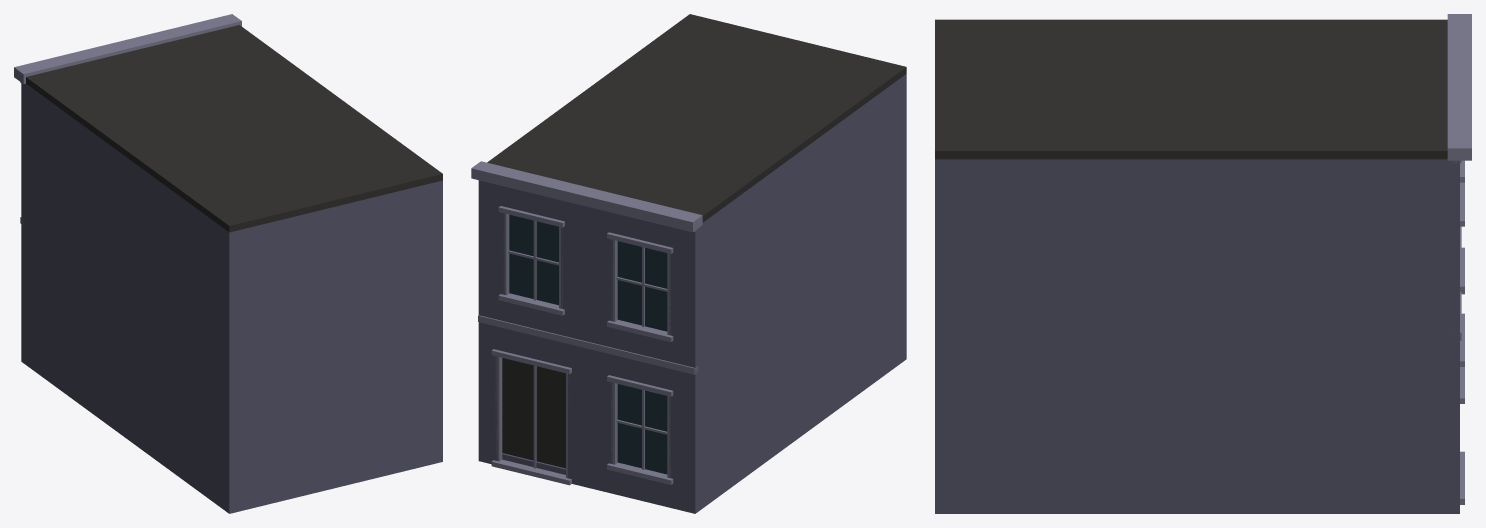
File: office_2b_2f.obj
3 renders of one model, left to right at view 1: azimuth 30°, elevation 25°; view 2: azimuth 150°, elevation 25°; view 3: azimuth 270°, elevation 25°, orthographic. The views are drawn at different scales.
Parts seen in each view (by area): view 1: rear_1, party_wall_2, roof_slab_49, foundation_0, cornice_48, wall_pier_4, wall_pier_25; view 2: party_wall_2, roof_slab_49, door_18, cornice_48, wall_pier_4, wall_pier_25, recessed_glass_8, recessed_glass_40, recessed_glass_29, wall_pier_37, wall_pier_5, wall_pier_36 (+21 smaller); view 3: side_3, roof_slab_49, foundation_0, rear_1, cornice_48, wall_pier_16, wall_pier_37.
Part boxes in pixels (left/top/right/bottom): rear_1: left=224, top=180, right=442, bottom=512; party_wall_2: left=24, top=83, right=238, bottom=513; roof_slab_49: left=26, top=25, right=442, bottom=232; foundation_0: left=24, top=354, right=442, bottom=513; cornice_48: left=14, top=14, right=241, bottom=83; wall_pier_4: left=21, top=221, right=26, bottom=365; wall_pier_25: left=21, top=83, right=26, bottom=222; party_wall_2: left=698, top=74, right=906, bottom=508; roof_slab_49: left=487, top=14, right=906, bottom=222; door_18: left=502, top=358, right=565, bottom=468; cornice_48: left=471, top=161, right=702, bottom=232; wall_pier_4: left=669, top=367, right=700, bottom=513; wall_pier_25: left=669, top=227, right=700, bottom=370; recessed_glass_8: left=617, top=384, right=667, bottom=474; recessed_glass_40: left=509, top=214, right=558, bottom=305; recessed_glass_29: left=617, top=241, right=667, bottom=331; wall_pier_37: left=478, top=180, right=504, bottom=321; wall_pier_5: left=587, top=348, right=612, bottom=493; wall_pier_36: left=561, top=200, right=586, bottom=341; side_3: left=935, top=159, right=1452, bottom=513; roof_slab_49: left=935, top=19, right=1447, bottom=159; foundation_0: left=935, top=501, right=1452, bottom=513; rear_1: left=935, top=159, right=948, bottom=513; cornice_48: left=1447, top=14, right=1471, bottom=160; wall_pier_16: left=1446, top=336, right=1459, bottom=513; wall_pier_37: left=1446, top=159, right=1459, bottom=336.
Bounding box in the file's own units: 5.52 × 7.04 × 9.33.
